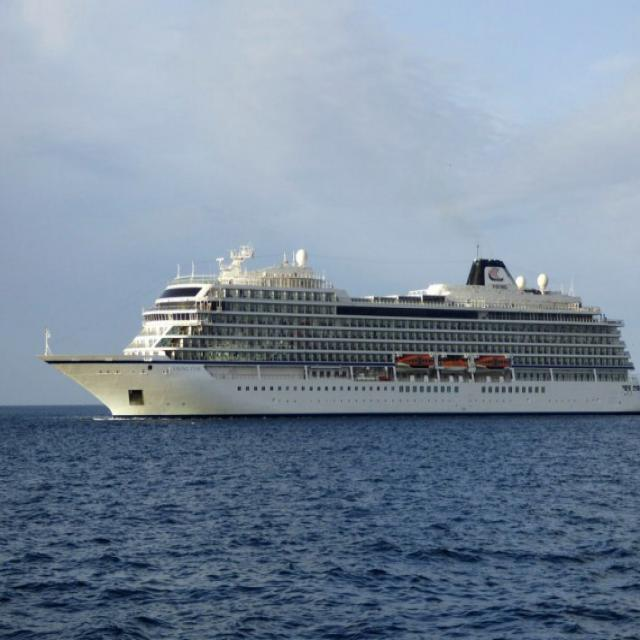cruises: (31, 248, 640, 425)
